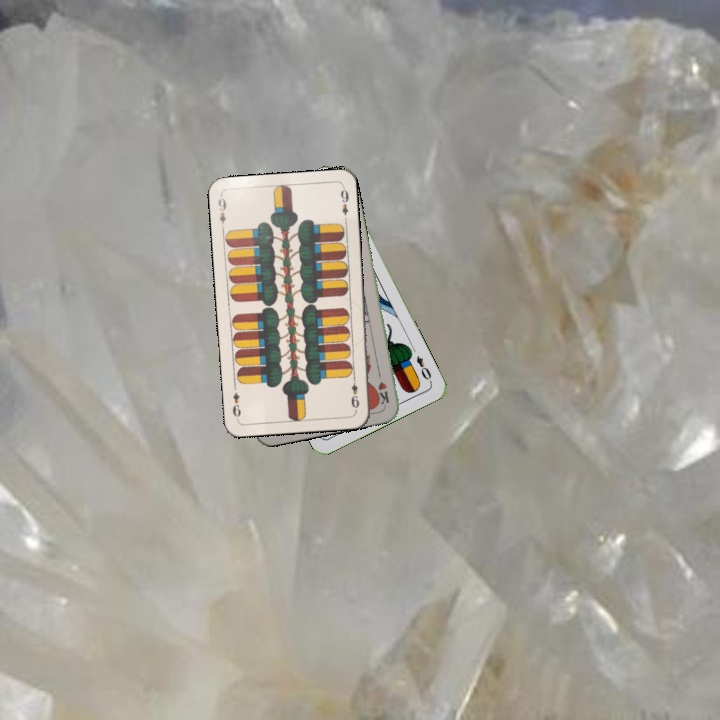E9: (347, 372, 362, 413), (214, 192, 229, 233)
EO: (412, 352, 435, 386)
HK: (374, 366, 391, 407)
